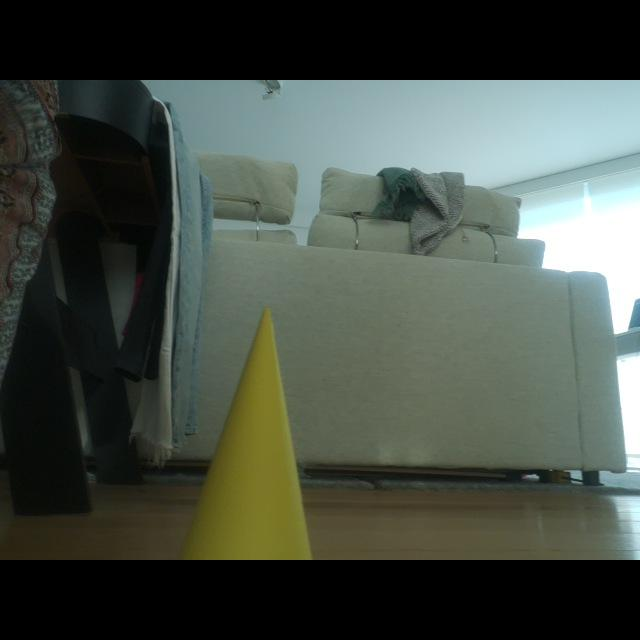bolya: (180, 308, 311, 559)
